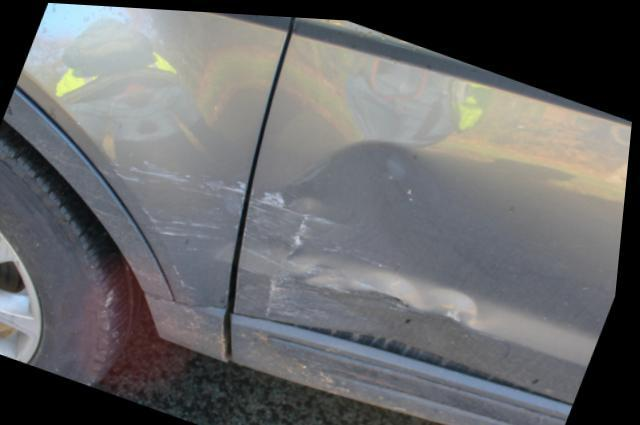dent: (246, 134, 558, 316), (61, 66, 197, 134)
scratch: (117, 155, 246, 285)
